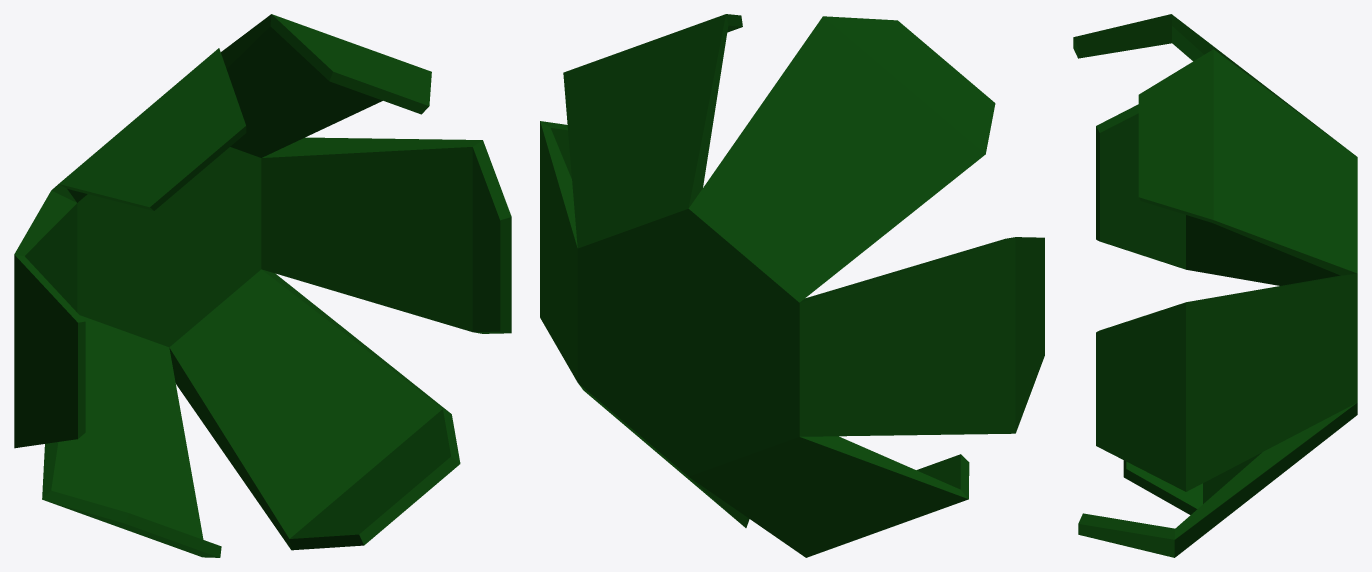
Rendered from GreenCabbageOuterCollider.obj.
The picture shows the model from 3 angles, left to right: view 1: azimuth 30°, elevation 25°; view 2: azimuth 150°, elevation 25°; view 3: azimuth 270°, elevation 25°; orthographic projection. The views are drawn at different scales.
Parts seen in each view (by area): view 1: cabbage.004, cabbage.002, cabbage.003, cabbage.005, cabbage.008, cabbage.006, cabbage.007; view 2: cabbage.007, cabbage.003, cabbage.006, cabbage.008, cabbage.005, cabbage.002, cabbage.004; view 3: cabbage.002, cabbage.008, cabbage.006, cabbage.004, cabbage.007, cabbage.005.
Part boxes in pixels (<box>): cabbage.004: <box>169,269,460,550</box>; cabbage.002: <box>261,137,511,333</box>; cabbage.003: <box>77,147,261,347</box>; cabbage.005: <box>42,315,221,557</box>; cabbage.008: <box>221,14,431,157</box>; cabbage.006: <box>14,190,85,448</box>; cabbage.007: <box>51,48,246,210</box>; cabbage.007: <box>688,16,995,302</box>; cabbage.003: <box>577,209,799,476</box>; cabbage.006: <box>799,237,1044,436</box>; cabbage.008: <box>563,14,742,248</box>; cabbage.005: <box>689,436,969,557</box>; cabbage.002: <box>540,121,577,381</box>; cabbage.004: <box>578,383,749,527</box>; cabbage.002: <box>1096,273,1357,491</box>; cabbage.008: <box>1138,49,1357,275</box>; cabbage.006: <box>1096,104,1340,285</box>; cabbage.004: <box>1078,402,1357,557</box>; cabbage.007: <box>1073,14,1345,147</box>; cabbage.005: <box>1123,452,1261,514</box>.
Size of the model in its own units: 0.2778 by 0.2955 by 0.1498.
